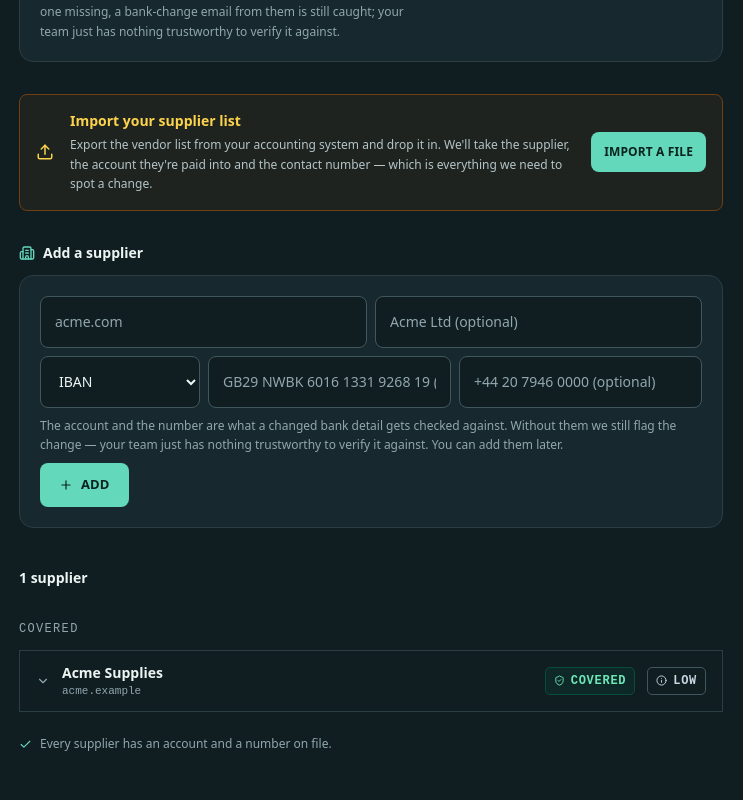
Test: supplier detail › shows the account in full so it can be compared against an invoice
(page scrolled)
What coordinates should you click on to do the following:
click the button "Acme Supplies acme.example Covered Low"
I would click on:
 (112, 672)
Its box is [20,651,722,711].
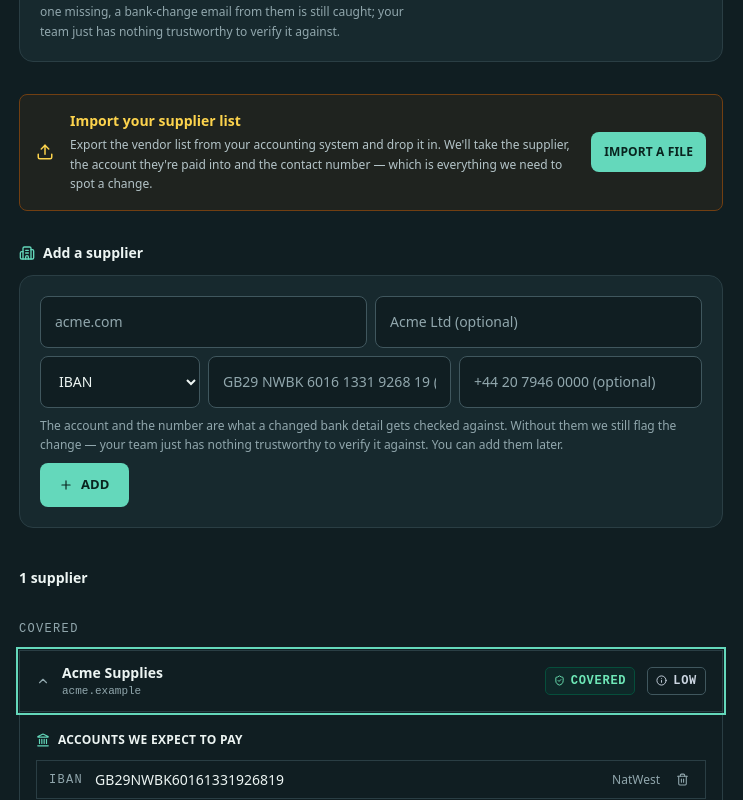
expect the text "GB29NWBK60161331926819" is shown: met, box [95,770,284,789]
